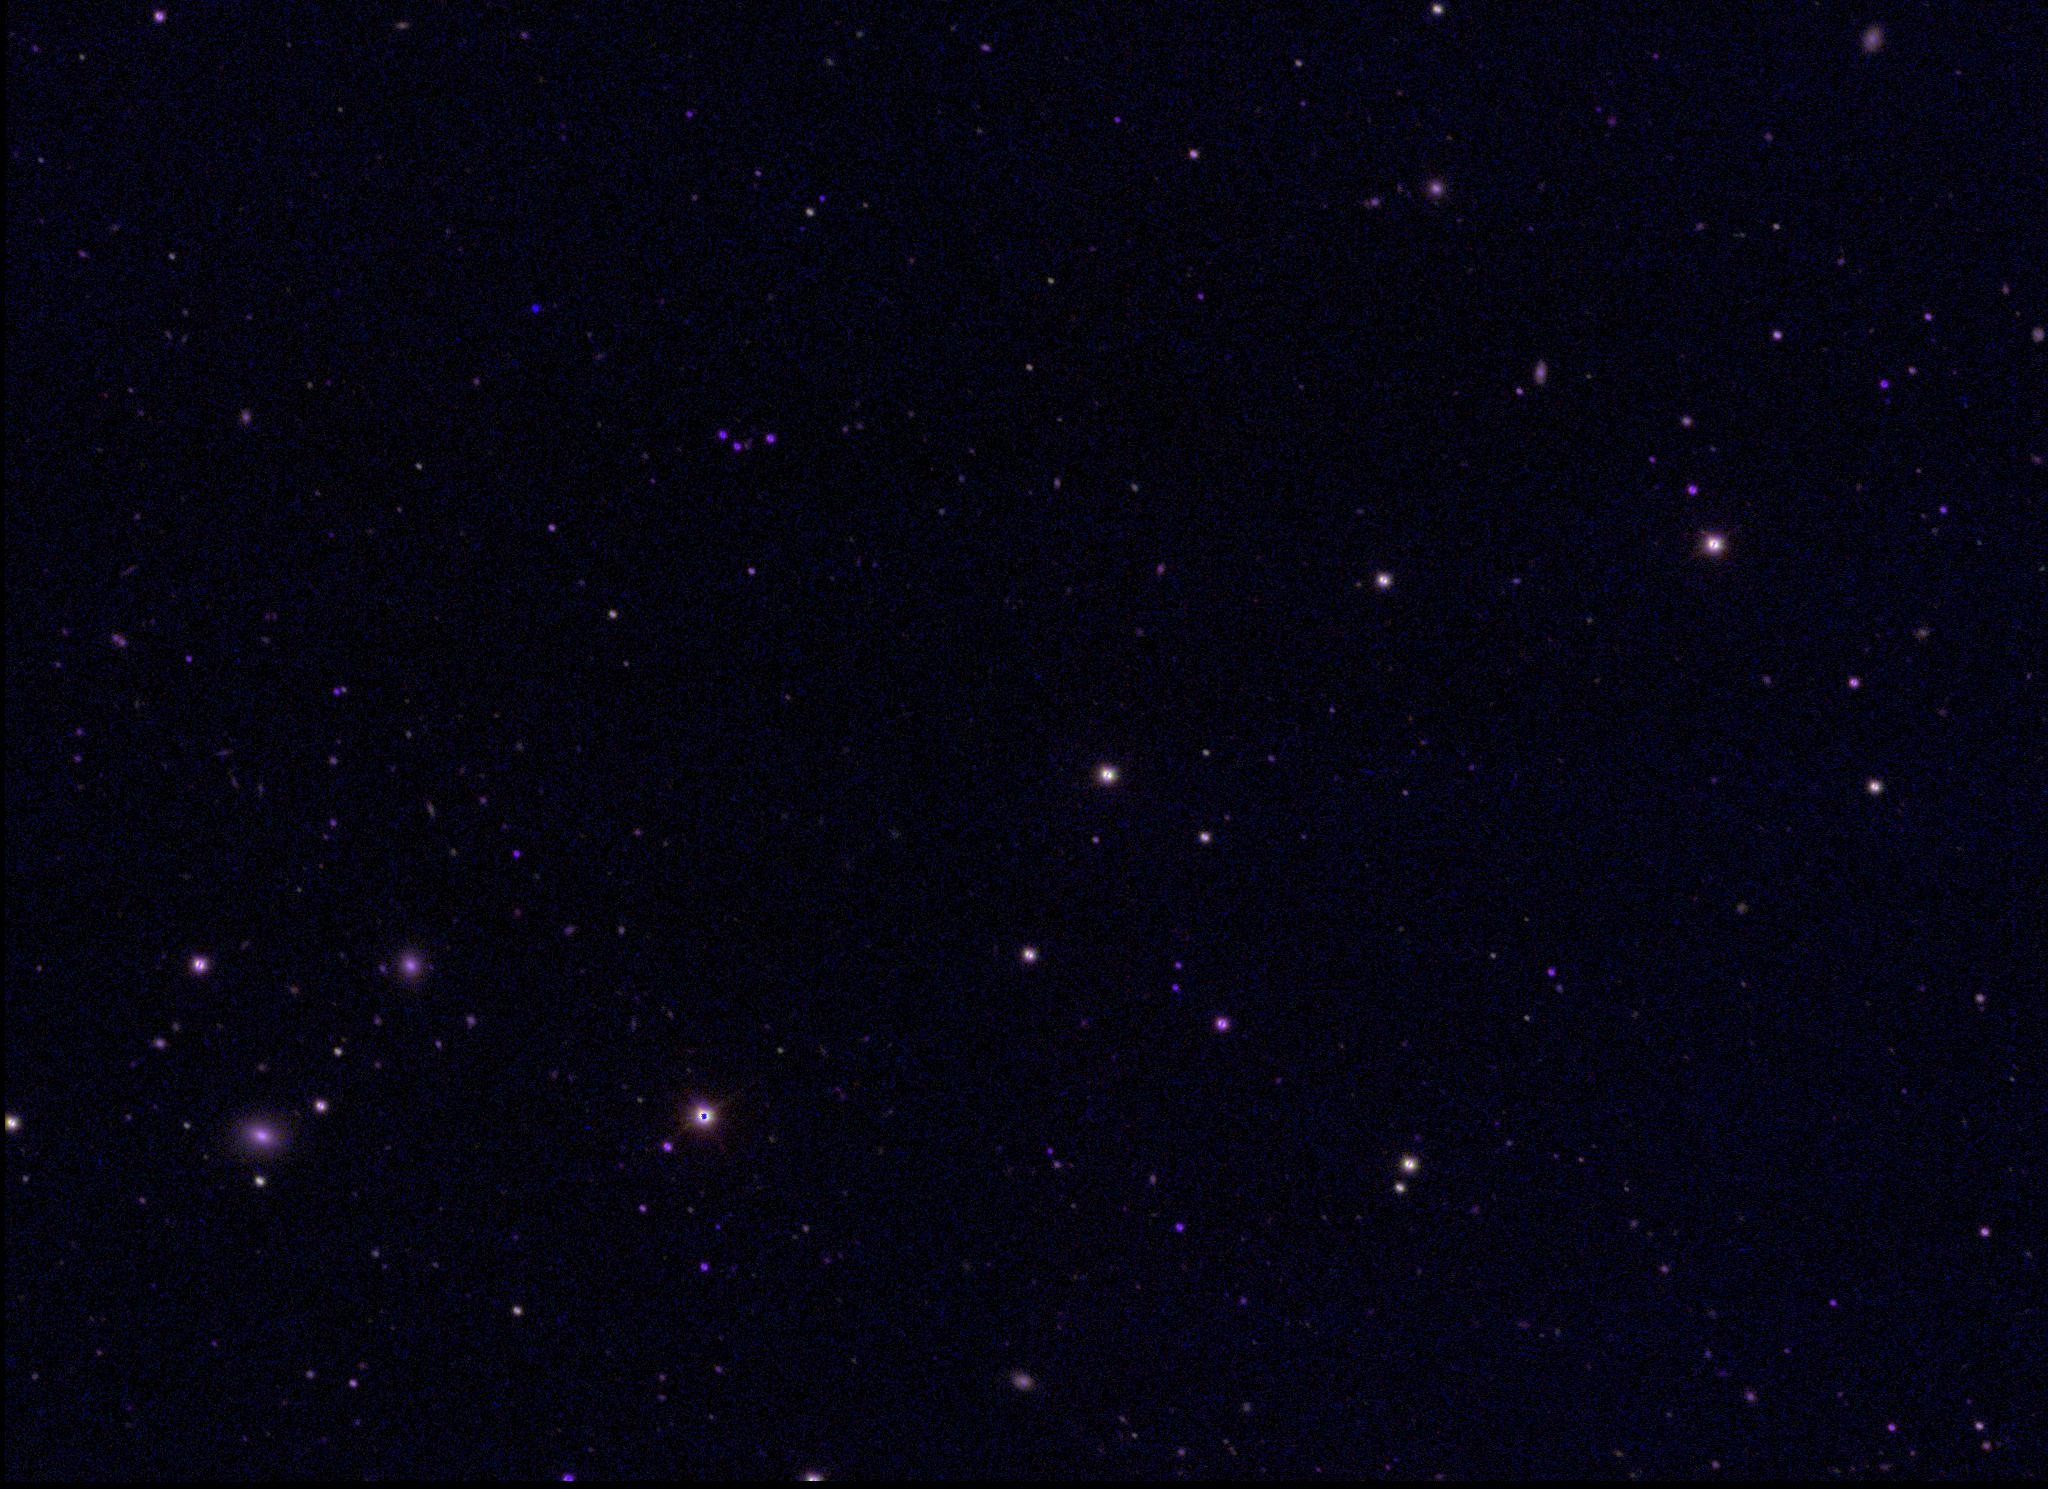L: (528, 301, 542, 313)
